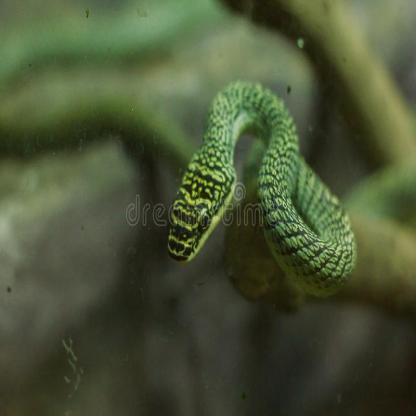Snake: (164, 70, 358, 302)
